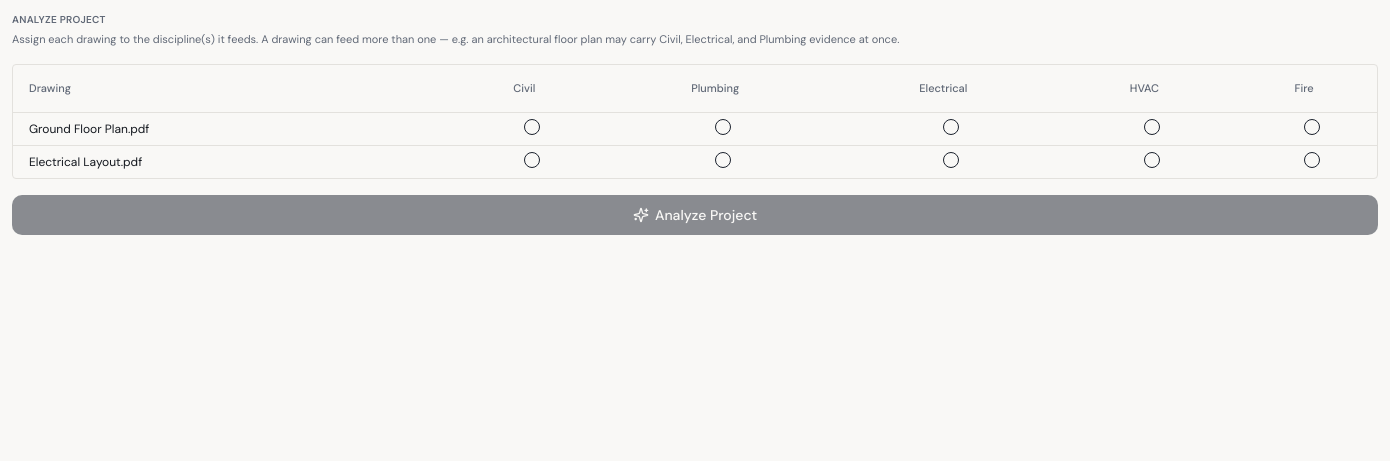
Scenario: WorkspaceAnalyzePanel — Coverage readiness summary › A: zero active Coverage findings shows no gap badge at all
Expected: the text "Ground Floor Plan.pdf" is shown, [13,112,447,146]
Step 1. Click the checkbox named "Assign Ground Floor Plan.pdf to Civil Works" → (532, 127), box [524,119,540,135]
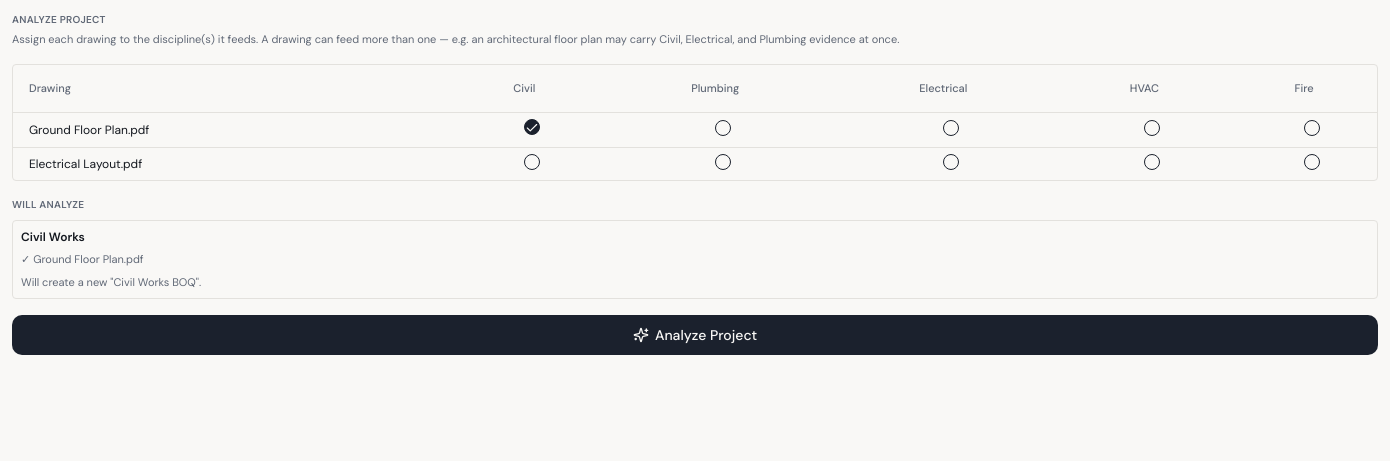
Step 2. Click the checkbox named "Assign Electrical Layout.pdf to Electrical Works" → (951, 162), box [943,154,959,170]
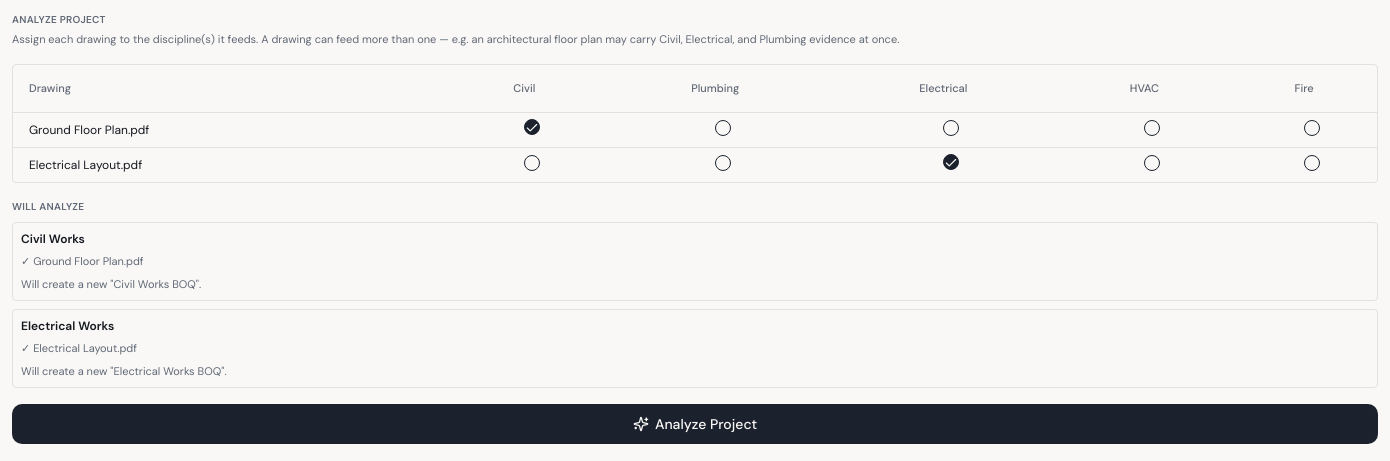
Step 3. Click the button "Analyze Project" → (695, 424), box [12,404,1378,444]
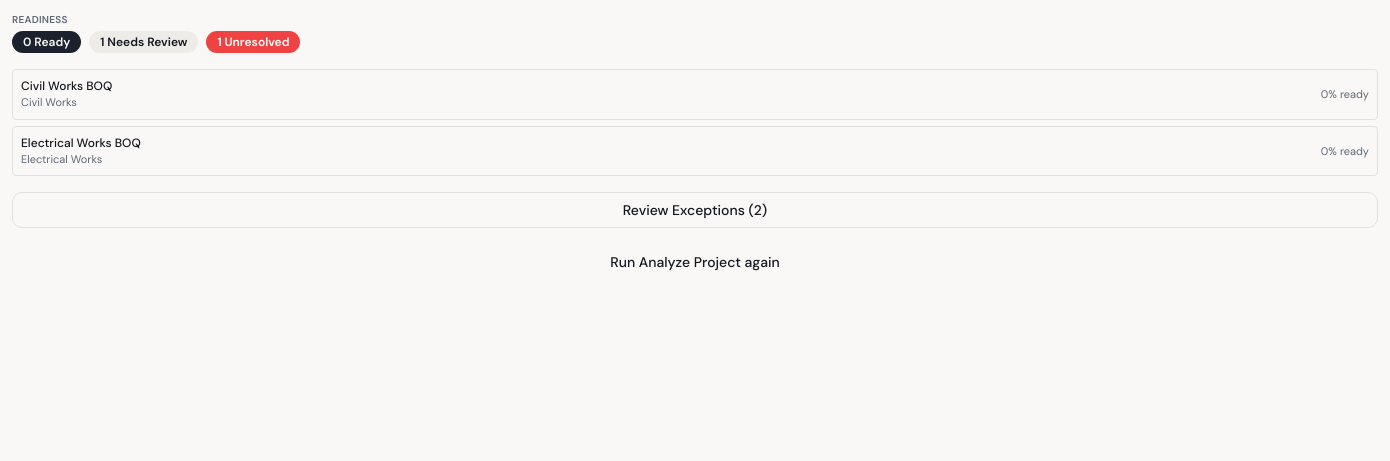
Result: the text "0 Ready" is shown at [12,31,81,53]
